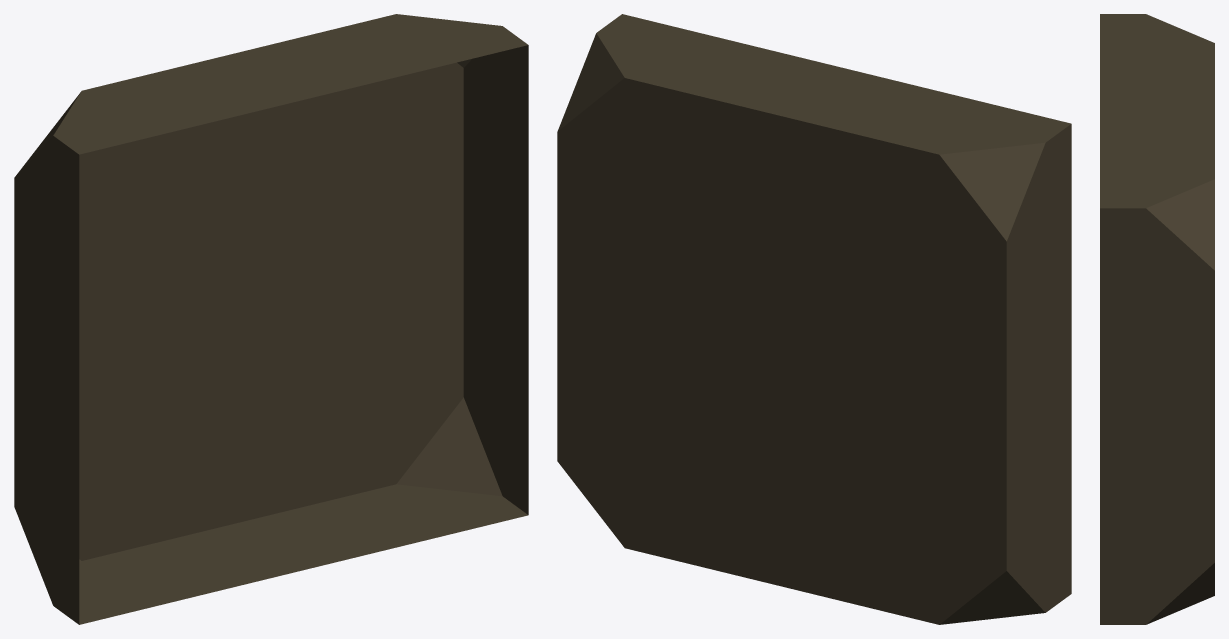
Rendered from TOUCHPLATE_STONE.OBJ.
The picture shows the model from 3 angles, left to right: view 1: azimuth 30°, elevation 25°; view 2: azimuth 150°, elevation 25°; view 3: azimuth 270°, elevation 25°; orthographic projection. The views are drawn at different scales.
Parts seen in each view (by area): view 1: TOUCHPLATE_STONE; view 2: TOUCHPLATE_STONE; view 3: TOUCHPLATE_STONE.
Part boxes in pixels (box(x1,y1,x2,y2)): TOUCHPLATE_STONE: box(14, 14, 528, 624); TOUCHPLATE_STONE: box(557, 14, 1071, 624); TOUCHPLATE_STONE: box(1100, 14, 1214, 624).
Bounding box in the file's own units: 0.2 × 0.2 × 0.05.
